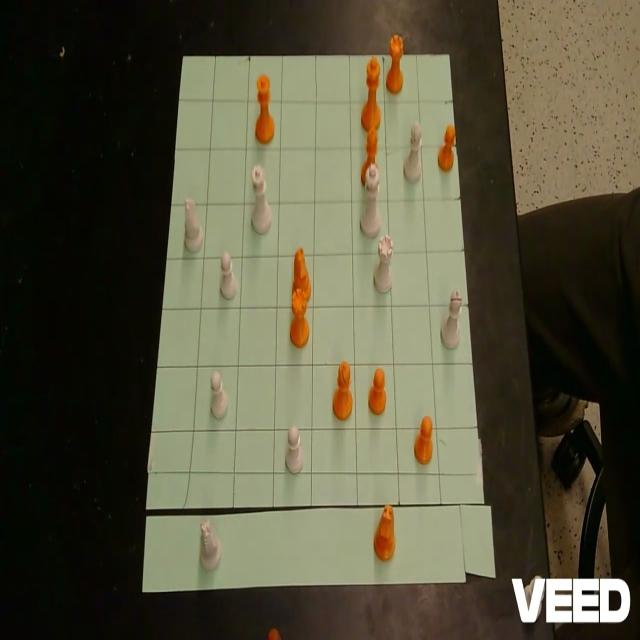orange_bishop: (332, 361, 353, 420), (362, 126, 378, 185)
orange_king: (361, 58, 380, 132)
orange_knight: (374, 504, 396, 560), (292, 246, 311, 304), (267, 628, 282, 640)
orange_pawn: (414, 415, 433, 464), (438, 122, 456, 171), (368, 367, 386, 415)
orange_queen: (255, 72, 275, 143)
orange_rook: (290, 286, 310, 348), (386, 32, 404, 92)
white_bishop: (440, 288, 462, 349), (403, 120, 422, 182)
white_king: (360, 162, 380, 236)
white_knight: (199, 518, 222, 570), (184, 197, 204, 252)
white_pawn: (286, 424, 304, 474), (210, 369, 228, 419), (220, 249, 238, 299)
white_queen: (250, 163, 272, 234)
white_rook: (374, 234, 394, 294)
